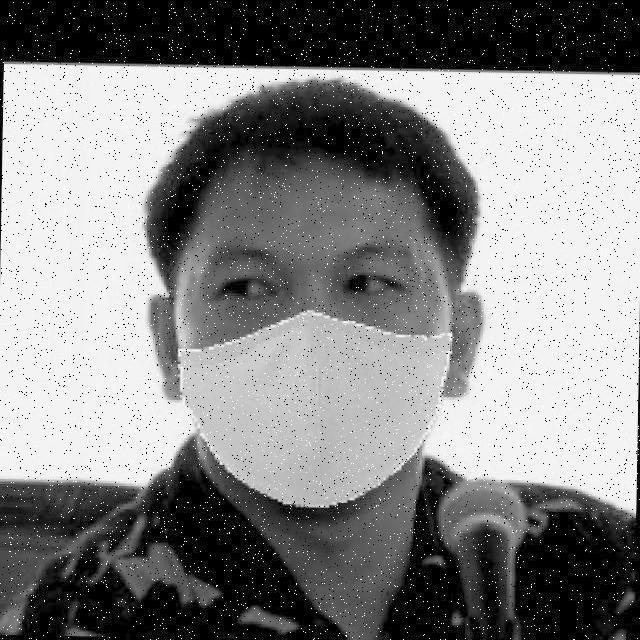mask: (150, 285, 446, 503)
no_gloves: (180, 80, 476, 202)
